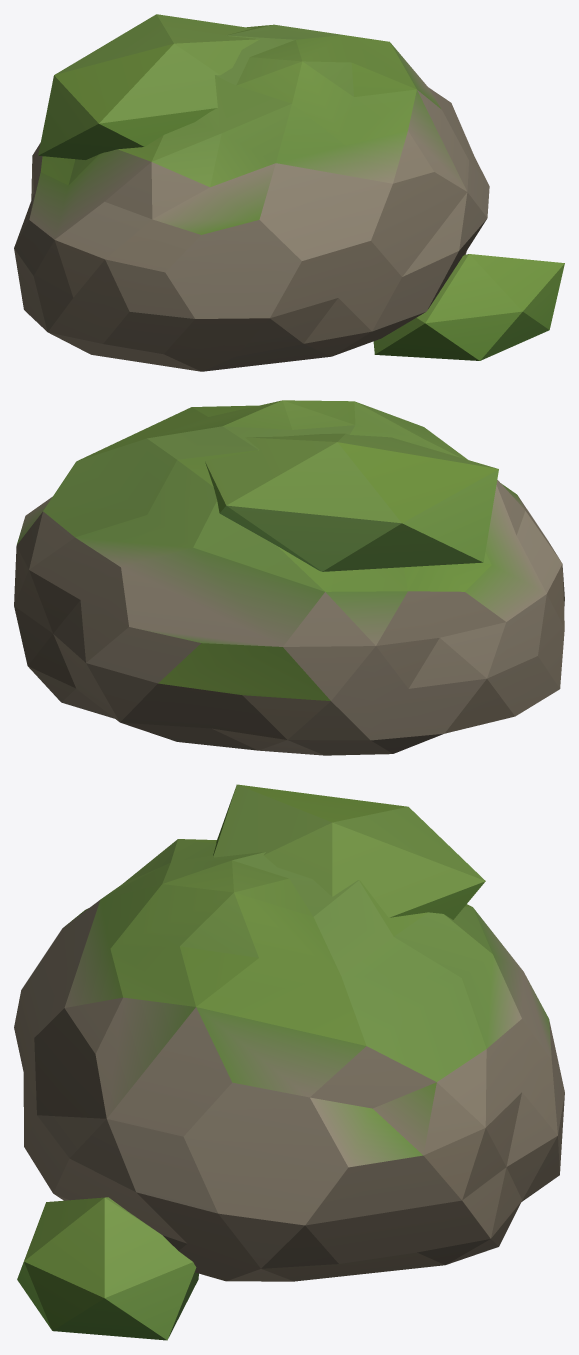
Rendered from ground_rock_mossy_v3.fbx.
3 renders of one model, top to bottom at view 1: azimuth 30°, elevation 25°; view 2: azimuth 150°, elevation 25°; view 3: azimuth 270°, elevation 25°, orthographic. The views are drawn at different scales.
Visible parts, largest first — view 1: ground_rock_mossy_v3; view 2: ground_rock_mossy_v3; view 3: ground_rock_mossy_v3.
Boxes of the visible parts, x1=… form: ground_rock_mossy_v3: x1=14, y1=14, x2=564, y2=371; ground_rock_mossy_v3: x1=14, y1=400, x2=564, y2=755; ground_rock_mossy_v3: x1=14, y1=784, x2=564, y2=1340.
Size of the model in its own units: 558 by 318 by 448.
